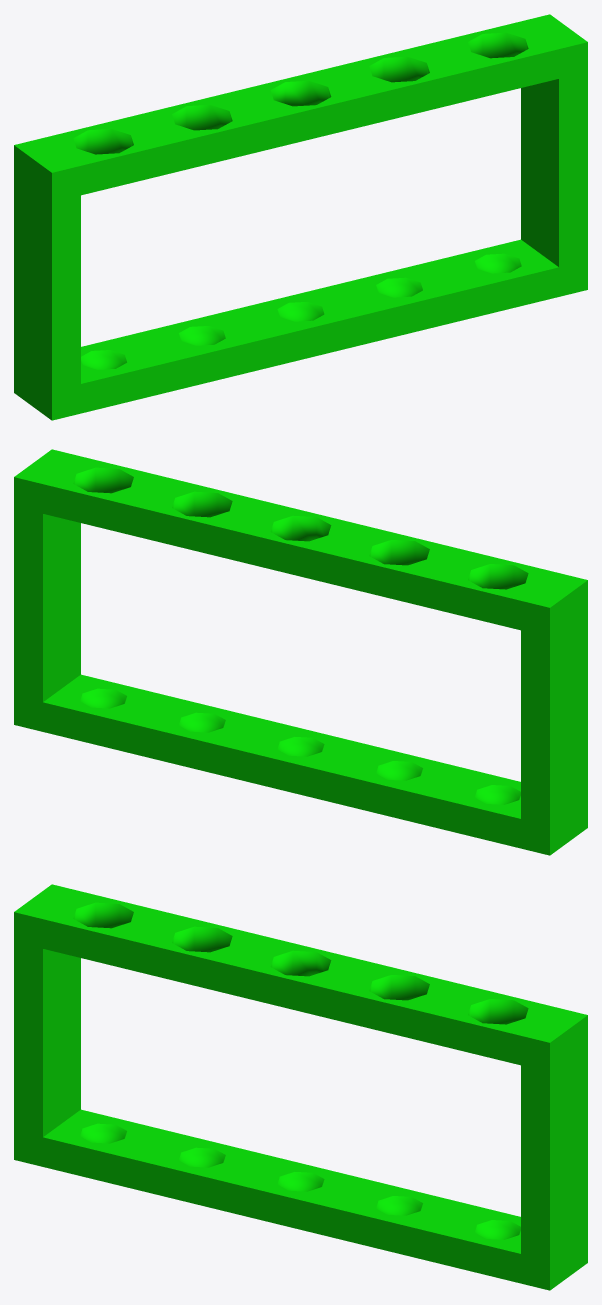
Rendered from Lab_TestTubeHolder.fbx.
3 renders of one model, top to bottom at view 1: azimuth 30°, elevation 25°; view 2: azimuth 150°, elevation 25°; view 3: azimuth 330°, elevation 25°, orthographic.
Visible parts, largest first — view 1: Plane.687; view 2: Plane.687; view 3: Plane.687.
Boxes of the visible parts, x1,y1,x2,y2 form: Plane.687: [14, 14, 587, 420]; Plane.687: [14, 449, 587, 855]; Plane.687: [14, 884, 587, 1290].
Size of the model in its own units: 0.8151 by 0.36 by 0.1.
